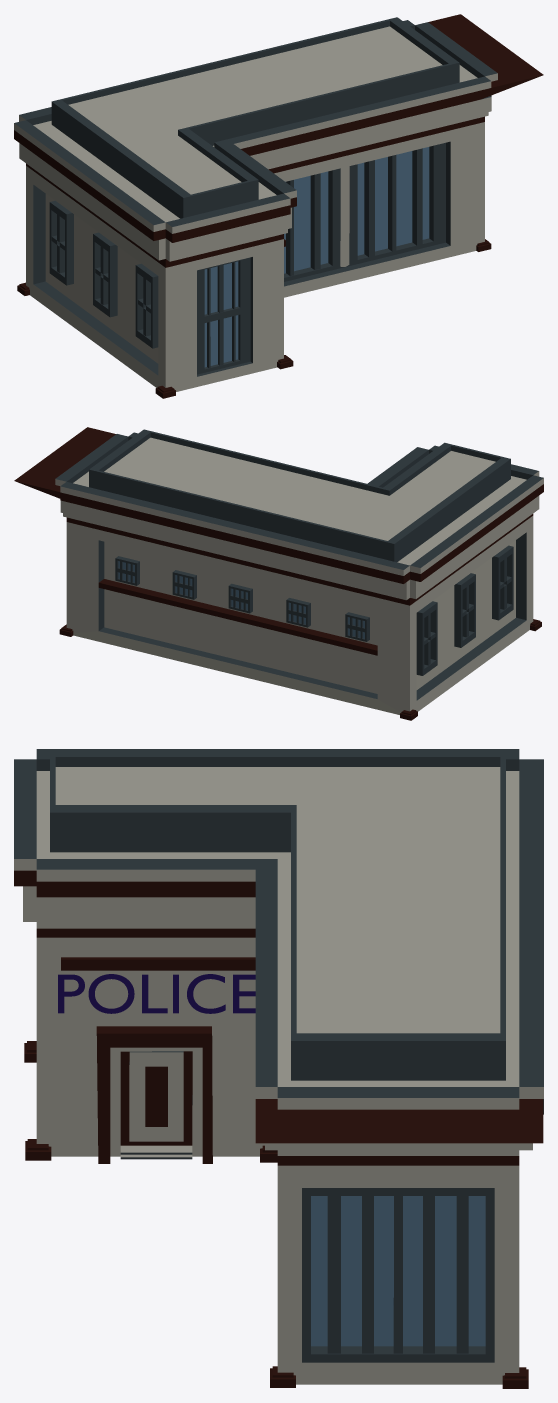
Rendered from policja_exploded.fbx.
The picture shows the model from 3 angles, top to bottom: view 1: azimuth 30°, elevation 25°; view 2: azimuth 150°, elevation 25°; view 3: azimuth 270°, elevation 25°; orthographic projection. The views are drawn at different scales.
Parts seen in each view (by area): view 1: Cube.002, Cube.003, Cube.005, Cube.004, Cube.001, Cube.006, Cube.007; view 2: Cube.002, Cube.005, Cube.003, Cube.006, Cube.001, Cube.004, Cube.007; view 3: Cube.001, Cube.005, Cube.004, Cube.002, Cube.003, Cube.006.
Boxes of the visible parts, x1,y1,x2,y2 form: Cube.002: (19,17,542,297); Cube.003: (14,120,290,363); Cube.005: (68,26,442,246); Cube.004: (17,190,296,391); Cube.001: (390,14,543,251); Cube.006: (17,100,125,290); Cube.007: (135,268,196,398); Cube.002: (60,429,409,714); Cube.005: (104,437,495,540); Cube.003: (410,443,543,689); Cube.006: (345,499,465,720); Cube.001: (14,427,150,636); Cube.004: (400,590,530,720); Cube.007: (498,516,541,631); Cube.001: (255,1033,543,1388); Cube.005: (36,767,500,1033); Cube.004: (14,859,277,1163); Cube.002: (255,750,543,1086); Cube.003: (14,749,519,858); Cube.006: (277,749,518,788).
Bounding box in the file's own units: 933 × 371 × 546.
